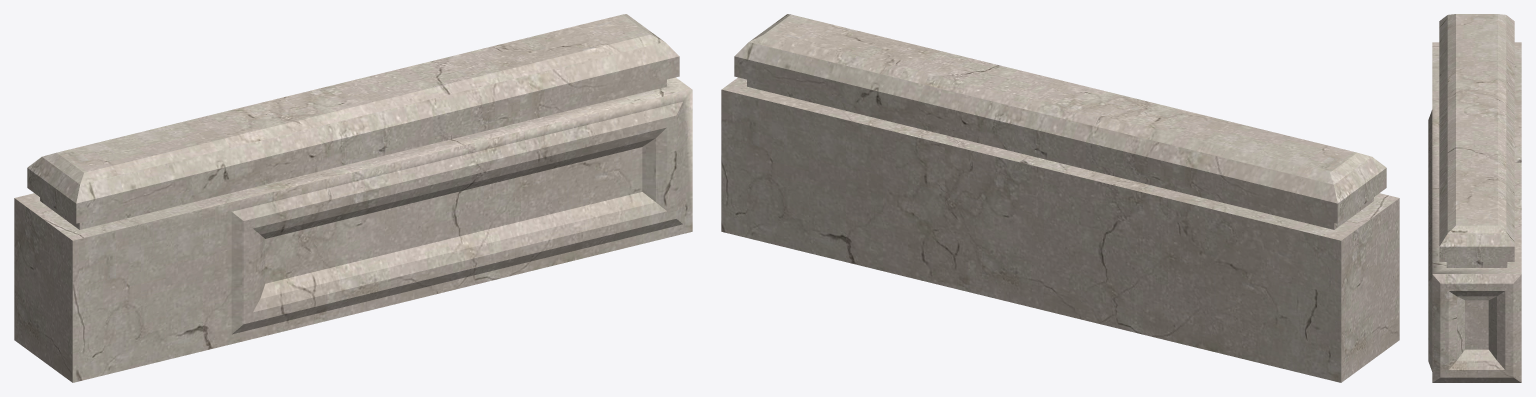
The model's file is pasted__marble_tile_108.fbx.
3 views of the same model, side by side, from view 1: azimuth 30°, elevation 25°; view 2: azimuth 150°, elevation 25°; view 3: azimuth 270°, elevation 25° (orthographic). The views are drawn at different scales.
Parts seen in each view (by area): view 1: pasted__marble_tile_108; view 2: pasted__marble_tile_108; view 3: pasted__marble_tile_108.
Part boxes in pixels (bbox=[...]): pasted__marble_tile_108: bbox=[14, 14, 692, 382]; pasted__marble_tile_108: bbox=[721, 14, 1399, 382]; pasted__marble_tile_108: bbox=[1428, 14, 1521, 382].
Size of the model in its own units: 282 by 47.7 by 83.
